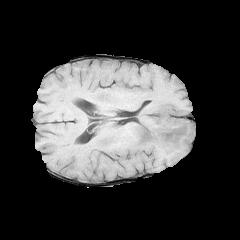glioma: (126, 106, 194, 151)
